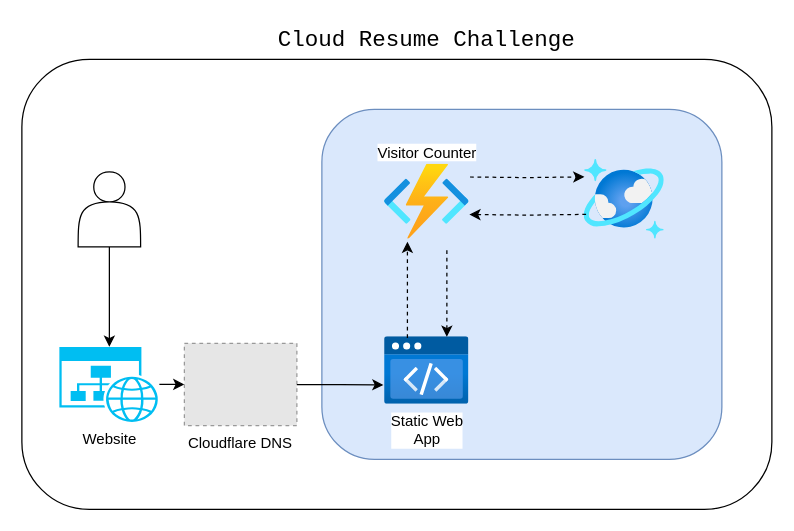
Image size: 794x531. Some labels were removed from this diagram. Grey dashed boxes stand in for pictures. Each missing label, with the box of its shape:
Counter Store: (584, 159, 664, 239)
User: (77, 171, 141, 247)
